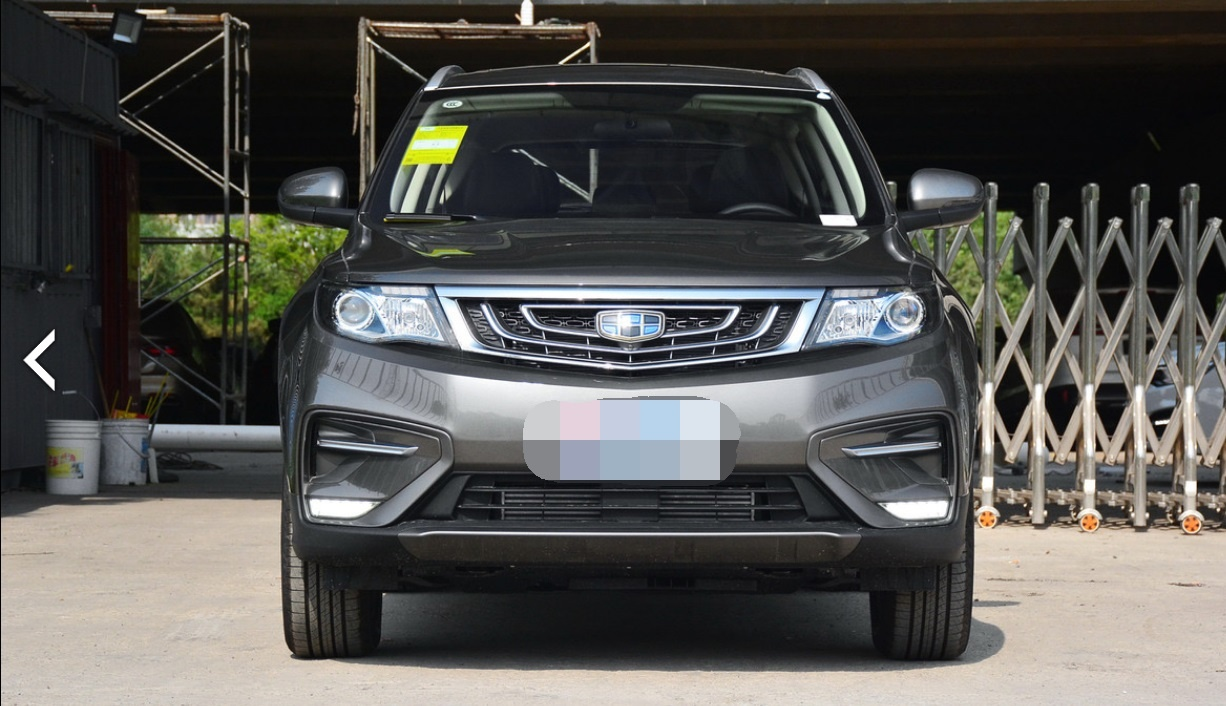SUV: (272, 40, 975, 671)
